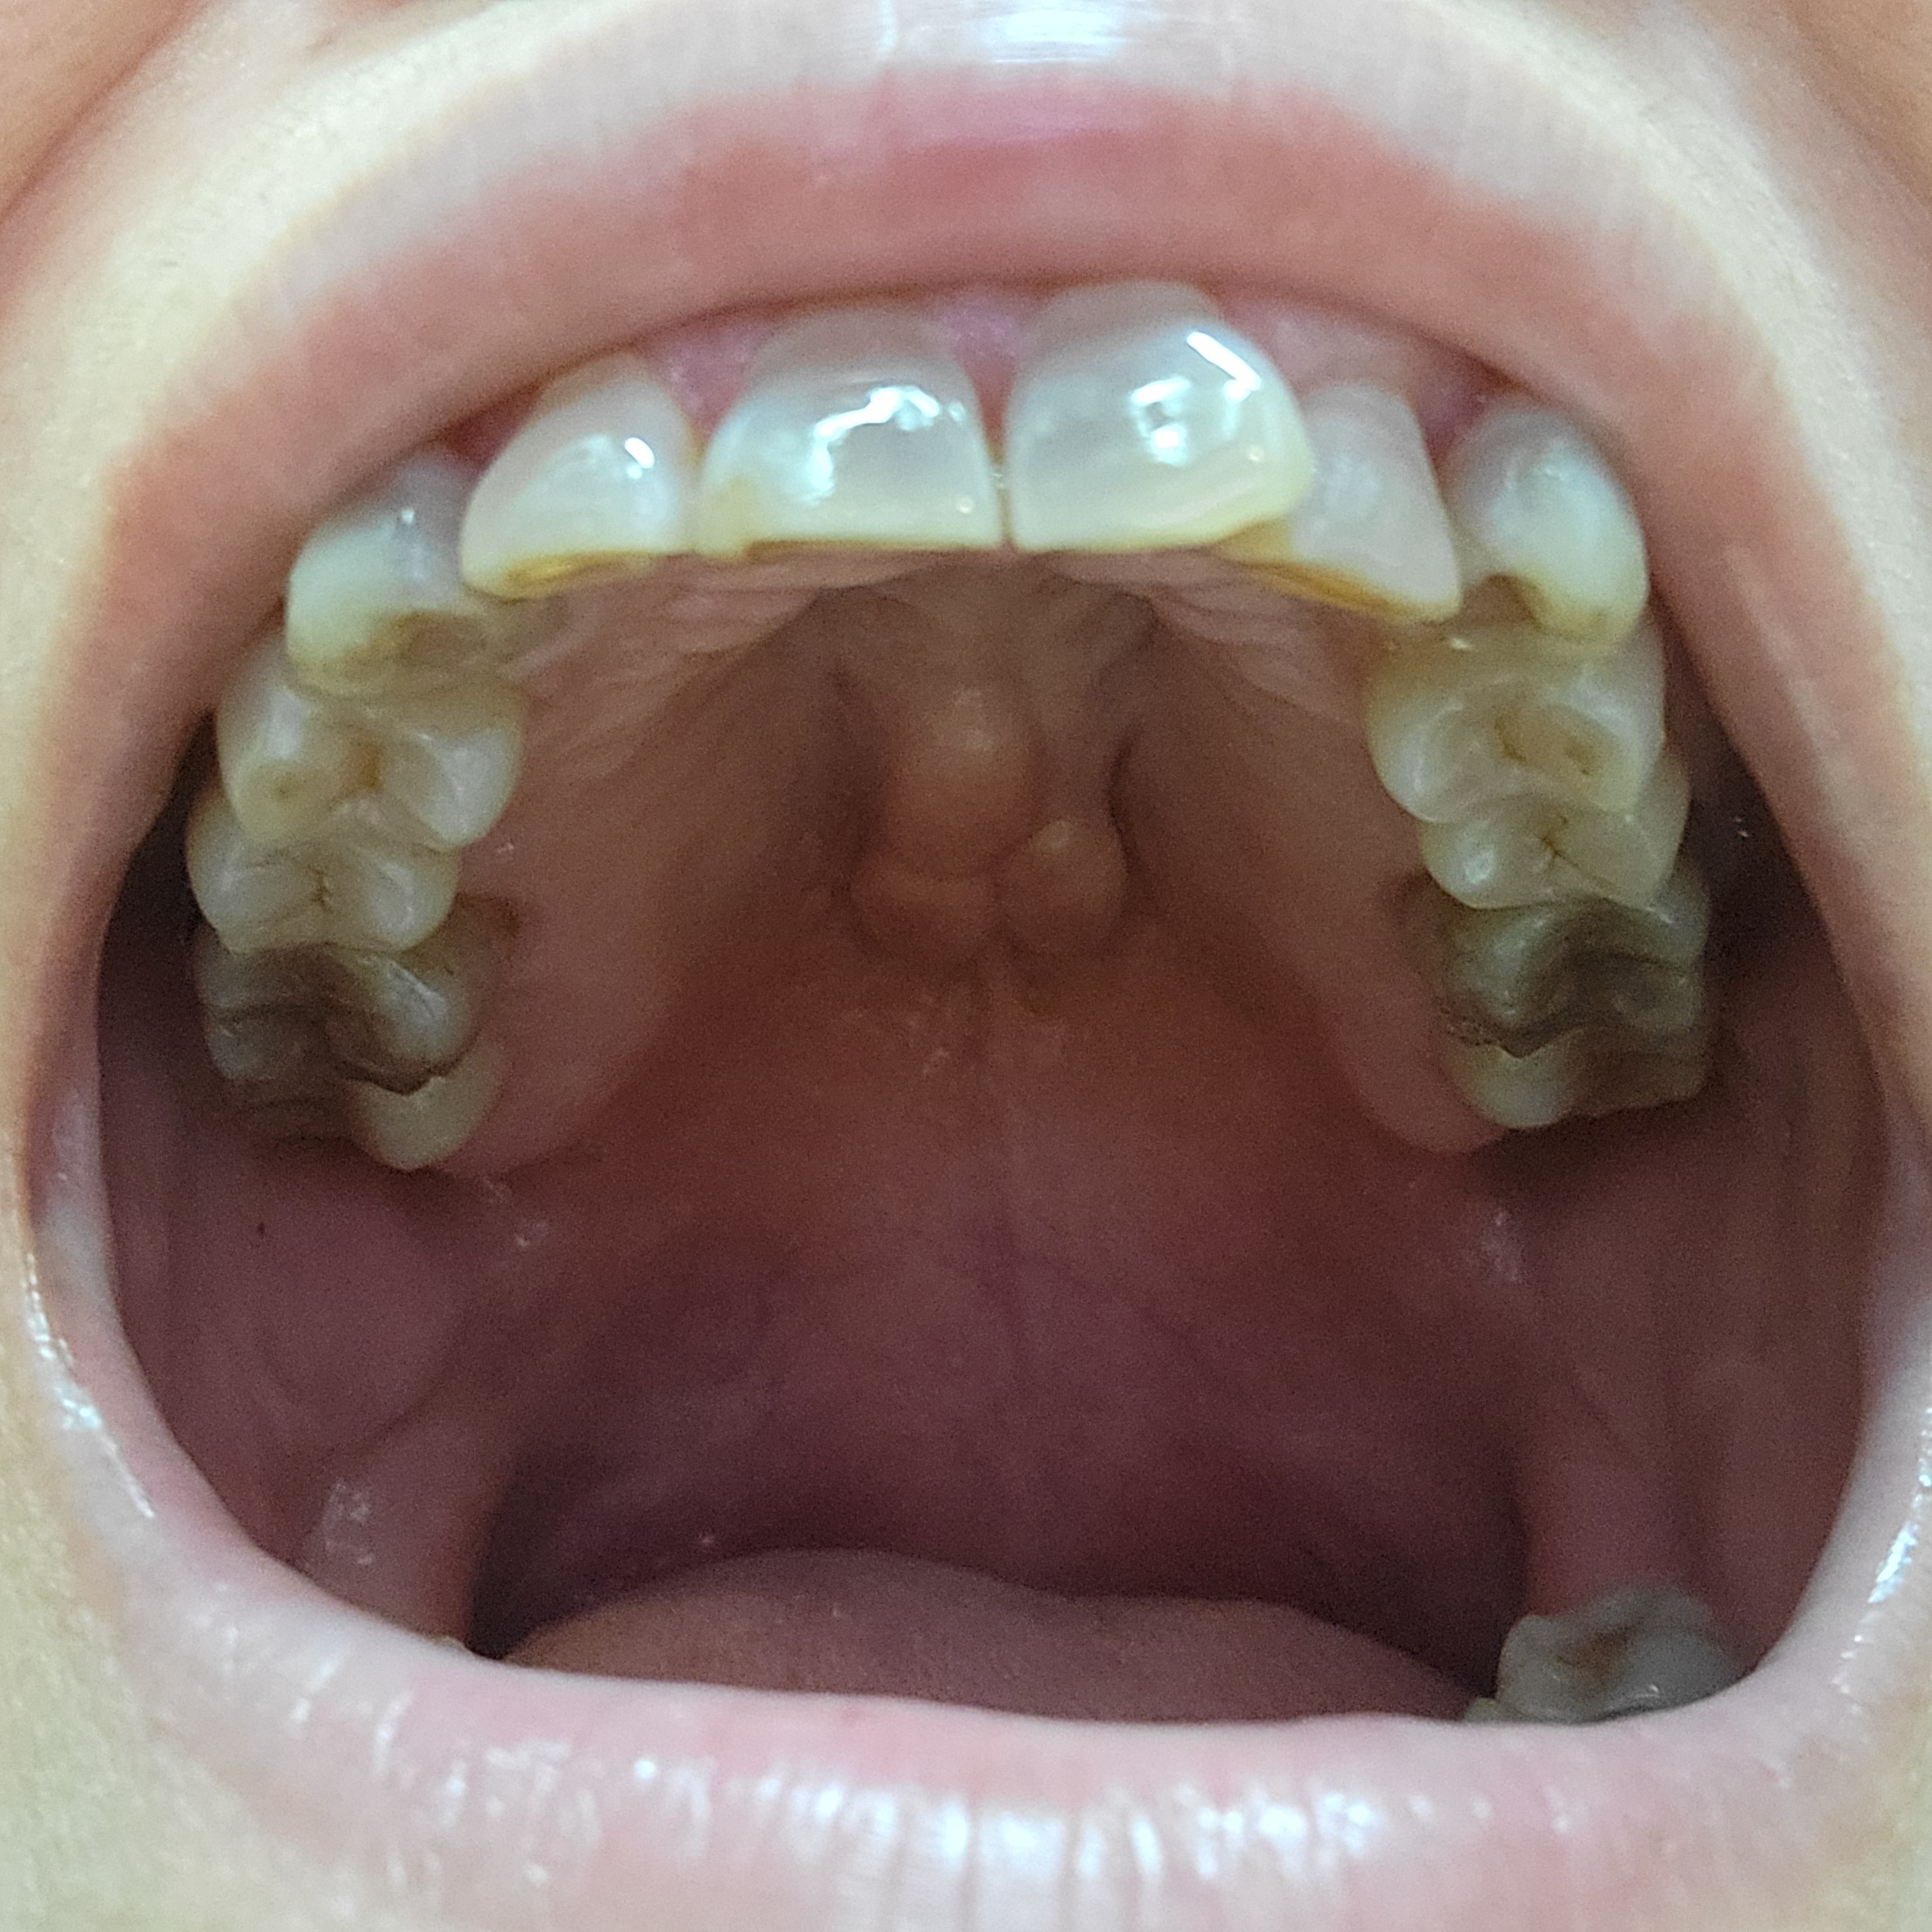teeth: (683, 299, 982, 548), (1014, 287, 1307, 534), (214, 630, 515, 849), (287, 437, 510, 706), (193, 922, 504, 1099), (1382, 626, 1663, 816), (1461, 389, 1642, 653), (189, 796, 442, 948), (462, 364, 669, 545), (1290, 380, 1453, 609), (1426, 915, 1697, 1040), (1456, 768, 1686, 913), (1431, 1021, 1707, 1123)
